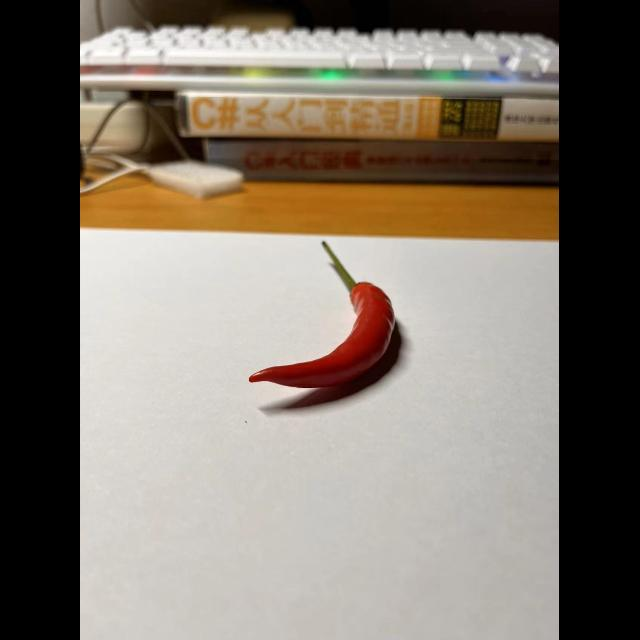chili_pepper: (246, 237, 404, 393)
